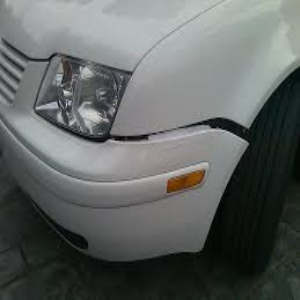bumper: (125, 120, 248, 256)
